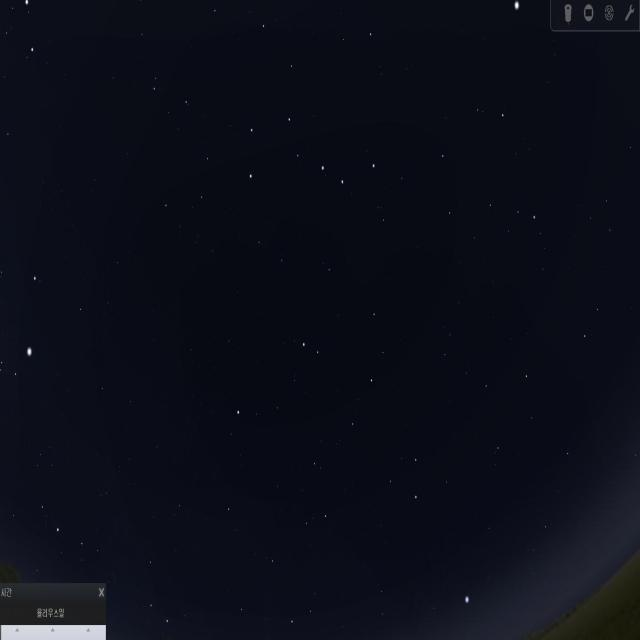ursa_major: (236, 107, 378, 214)
